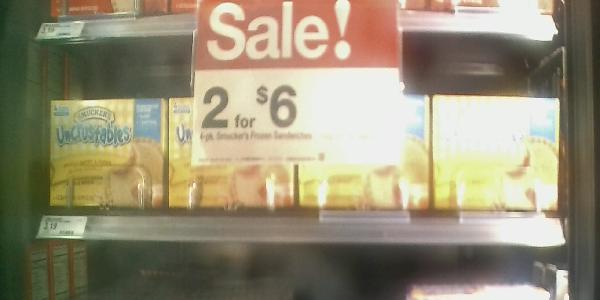icecream: (299, 86, 433, 217), (433, 93, 562, 214), (170, 99, 298, 214), (47, 98, 169, 213)
